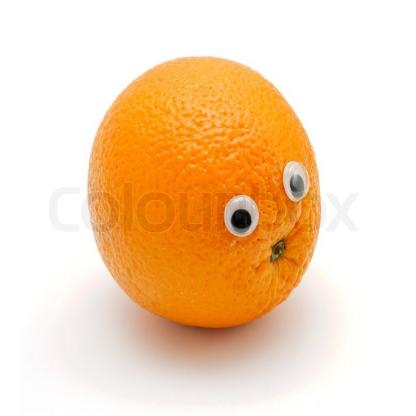orange: (86, 56, 331, 343)
